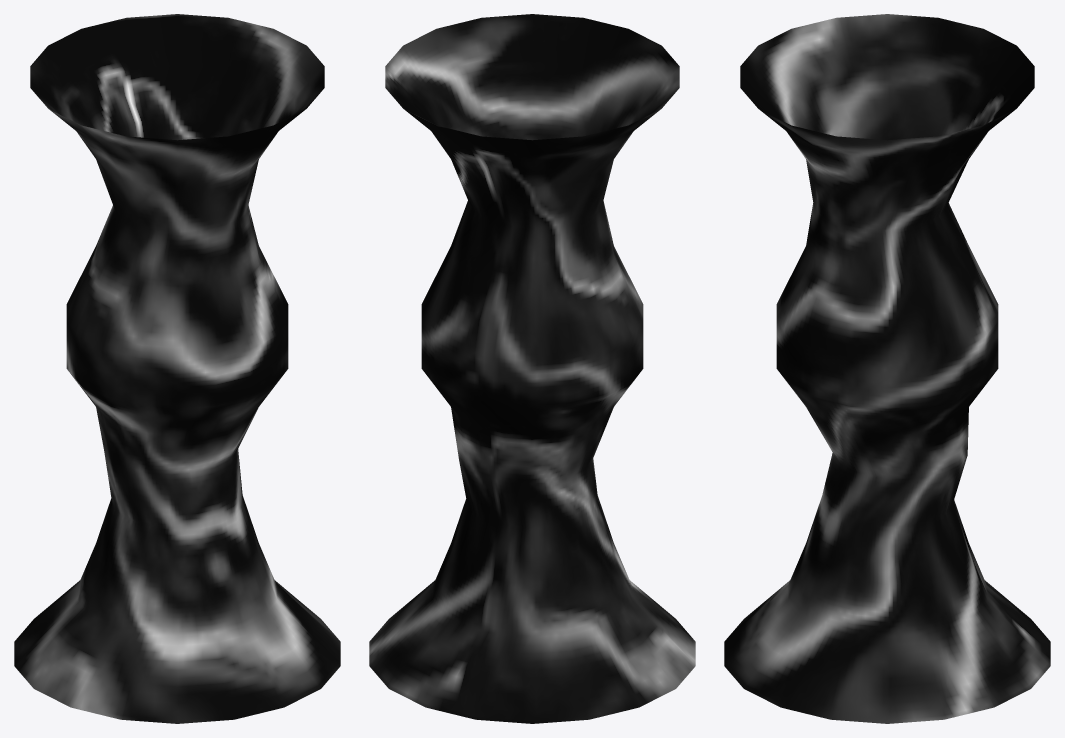
File: feng_2.FBX
The picture shows the model from 3 angles, left to right: view 1: azimuth 30°, elevation 25°; view 2: azimuth 150°, elevation 25°; view 3: azimuth 270°, elevation 25°; orthographic projection.
Visible parts, largest first — view 1: Cylinder001; view 2: Cylinder001; view 3: Cylinder001.
Boxes of the visible parts, box(x1,y1,x2,y2) form: Cylinder001: box(14, 14, 340, 723); Cylinder001: box(369, 14, 695, 723); Cylinder001: box(724, 14, 1050, 723).
Size of the model in its own units: 19.99 by 38.37 by 19.68.
